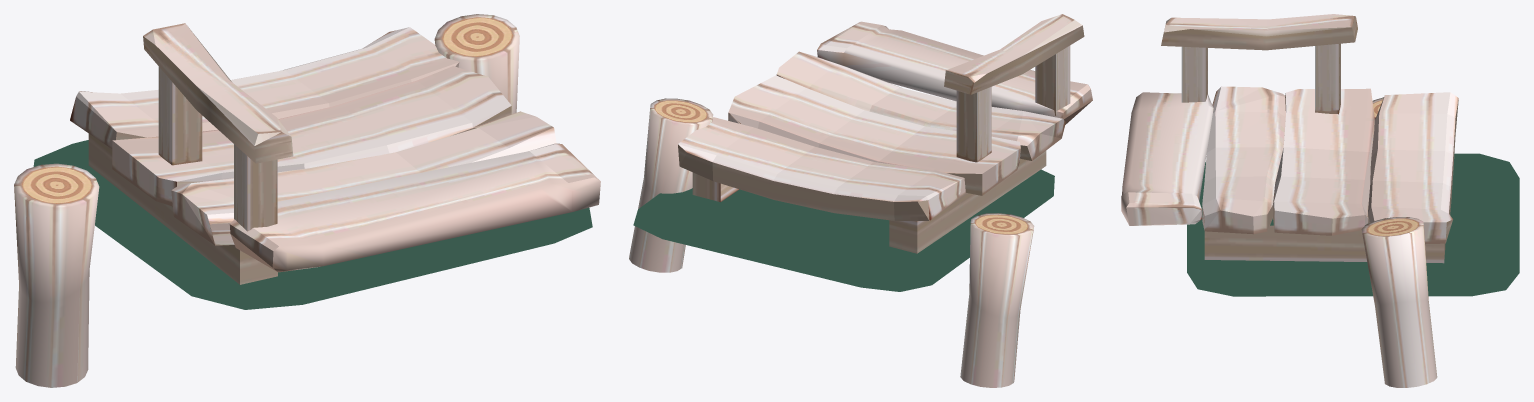
Rendered from Pier2.fbx.
3 renders of one model, left to right at view 1: azimuth 30°, elevation 25°; view 2: azimuth 150°, elevation 25°; view 3: azimuth 270°, elevation 25°, orthographic. The views are drawn at different scales.
Visible parts, largest first — view 1: Object009 (13), Object011 (6), PierBeam (×2), ShadowSquareWater (6), Object010 (4); view 2: Object009 (13), ShadowSquareWater (6), PierBeam (×2), Object011 (6), Object010 (4); view 3: Object009 (13), ShadowSquareWater (6), Object011 (6), PierBeam, Object010 (4).
Boxes of the visible parts, left/top/right/bottom form: Object009 (13): left=70, top=27, right=556, bottom=284; Object011 (6): left=229, top=143, right=600, bottom=272; PierBeam (×2): left=14, top=14, right=519, bottom=387; ShadowSquareWater (6): left=33, top=140, right=592, bottom=309; Object010 (4): left=143, top=23, right=293, bottom=231; Object009 (13): left=678, top=51, right=1065, bottom=253; ShadowSquareWater (6): left=633, top=169, right=1054, bottom=291; PierBeam (×2): left=629, top=98, right=1034, bottom=387; Object011 (6): left=817, top=21, right=1092, bottom=124; Object010 (4): left=944, top=14, right=1084, bottom=162; Object009 (13): left=1202, top=86, right=1458, bottom=263; ShadowSquareWater (6): left=1187, top=153, right=1519, bottom=296; Object011 (6): left=1121, top=92, right=1213, bottom=225; PierBeam: left=1361, top=217, right=1437, bottom=387; Object010 (4): left=1161, top=14, right=1357, bottom=114.
Size of the model in its own units: 2.84 by 1.89 by 2.57.
